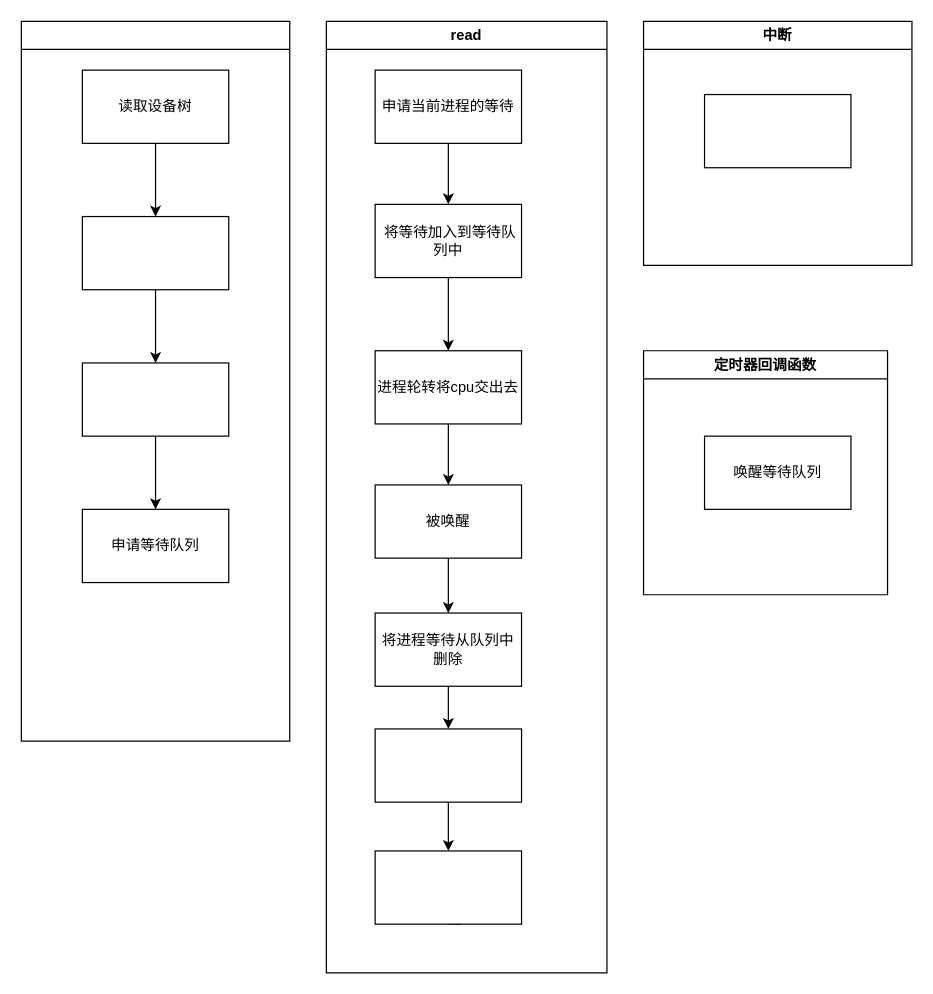
Image size: 933x994. Some labels were removed from this diagram. The shapes that lost their labels are listed below. From the top down, each one's box as (x1, y1, x2, y2) in pixels, then its label:
(703, 93, 851, 168): 定时器jiffies 设置3ms
(81, 215, 229, 290): 初始化外设
(20, 20, 290, 741): open
(81, 362, 229, 436): 初始化定时和中断
(374, 728, 522, 802): 使用I2C读取
(374, 850, 522, 924): 传递给应用层
